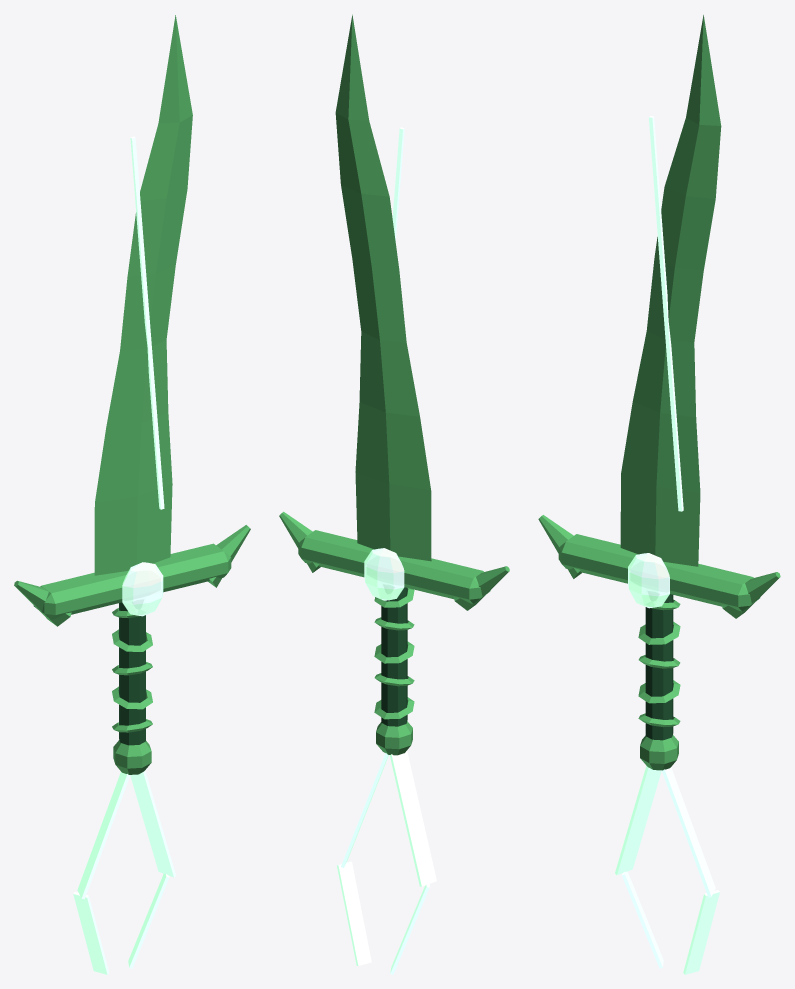
Rendered from weapon_sword_tempest_v01.glb.
The picture shows the model from 3 angles, left to right: view 1: azimuth 30°, elevation 25°; view 2: azimuth 150°, elevation 25°; view 3: azimuth 330°, elevation 25°; orthographic projection. The views are drawn at different scales.
Visible parts, largest first — view 1: weapon_sword_tempest; view 2: weapon_sword_tempest; view 3: weapon_sword_tempest.
Part boxes in pixels (x1,y1,x2,y2): weapon_sword_tempest: (14, 15, 250, 974); weapon_sword_tempest: (279, 14, 509, 974); weapon_sword_tempest: (538, 15, 780, 974).
Bounding box in the file's own units: 0.327 × 1.27 × 0.0919.
